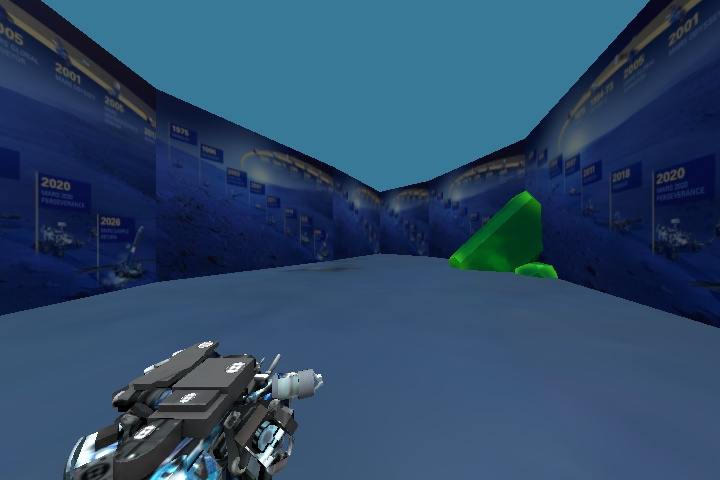green_crystal: (420, 179, 570, 284)
